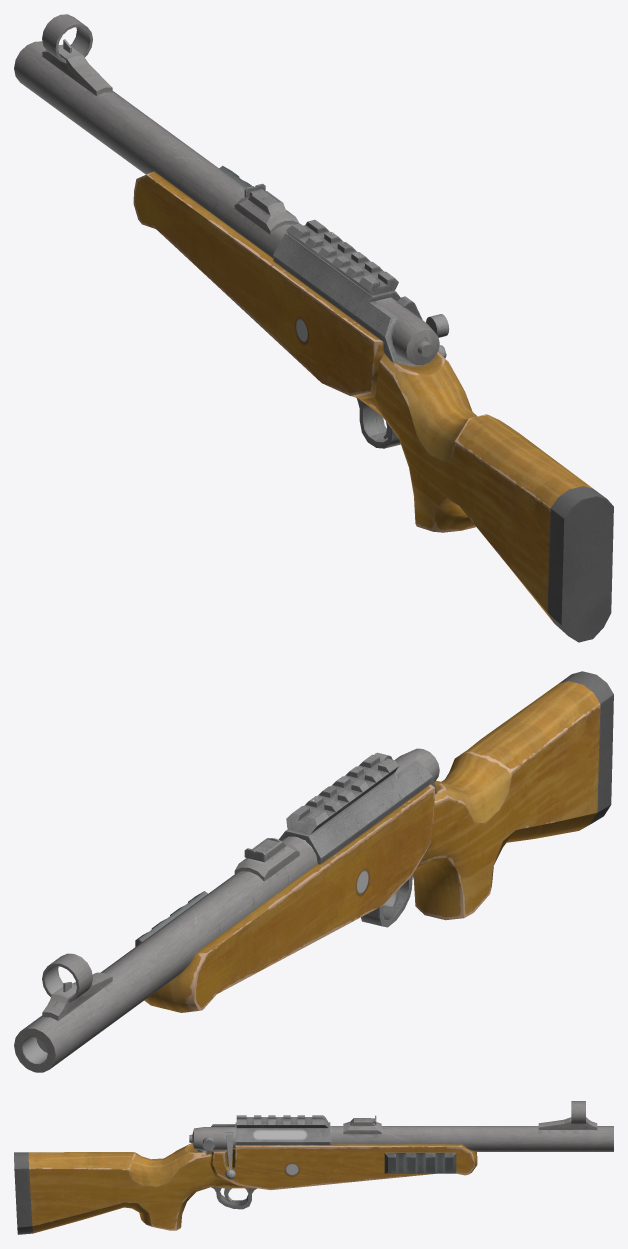
File: IG_Gun_VPO.fbx
The picture shows the model from 3 angles, top to bottom: view 1: azimuth 30°, elevation 25°; view 2: azimuth 150°, elevation 25°; view 3: azimuth 270°, elevation 25°; orthographic projection. The views are drawn at different scales.
Parts seen in each view (by area): view 1: Pfb_WPN_VPO215_01; view 2: Pfb_WPN_VPO215_01; view 3: Pfb_WPN_VPO215_01, ShowIf_Tec.
Boxes of the visible parts, box(x1,y1,x2,y2) form: Pfb_WPN_VPO215_01: box(14, 14, 613, 642); Pfb_WPN_VPO215_01: box(14, 671, 613, 1072); Pfb_WPN_VPO215_01: box(14, 1101, 613, 1234); ShowIf_Tec: box(384, 1152, 456, 1173).
Size of the model in its own units: 0.1261 by 0.3374 by 1.4.
